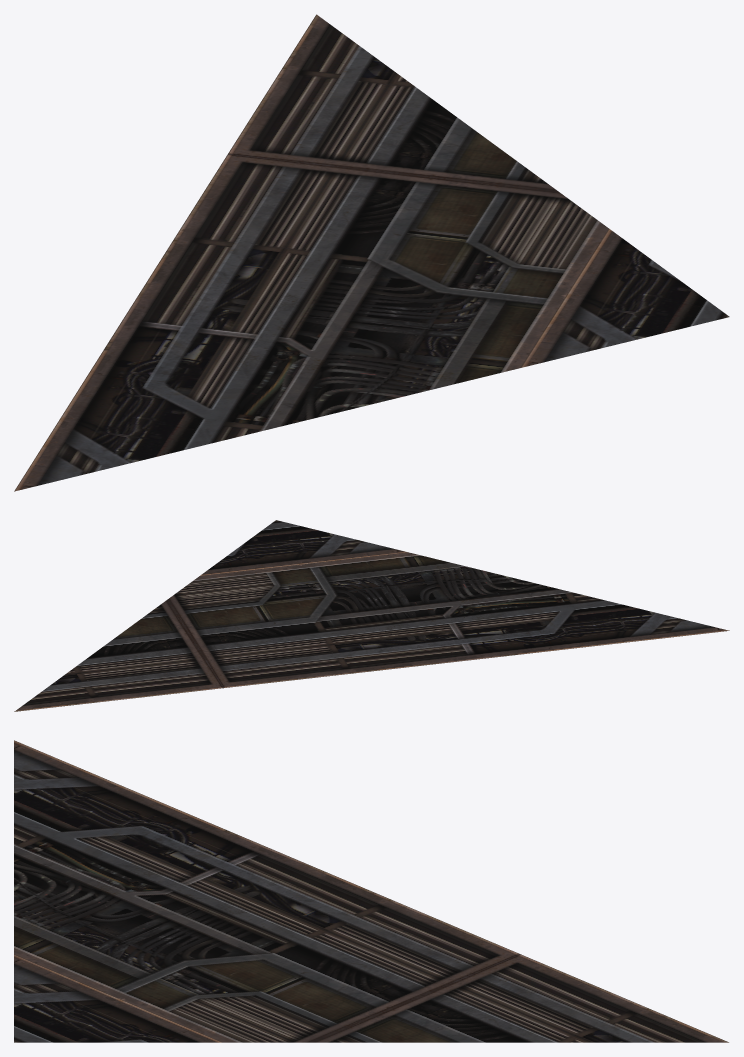
Rendered from Ceiling_A_05.fbx.
3 views of the same model, one above another, from view 1: azimuth 30°, elevation 25°; view 2: azimuth 150°, elevation 25°; view 3: azimuth 270°, elevation 25° (orthographic). The views are drawn at different scales.
Visible parts, largest first — view 1: Ceiling_A_05; view 2: Ceiling_A_05; view 3: Ceiling_A_05.
Part boxes in pixels (box(x1,y1,x2,y2)): Ceiling_A_05: box(14, 14, 729, 491); Ceiling_A_05: box(14, 520, 729, 711); Ceiling_A_05: box(14, 740, 728, 1042).
Size of the model in its own units: 400 by 0.000319 by 400.
Materials: 1 (1 with a texture image).
